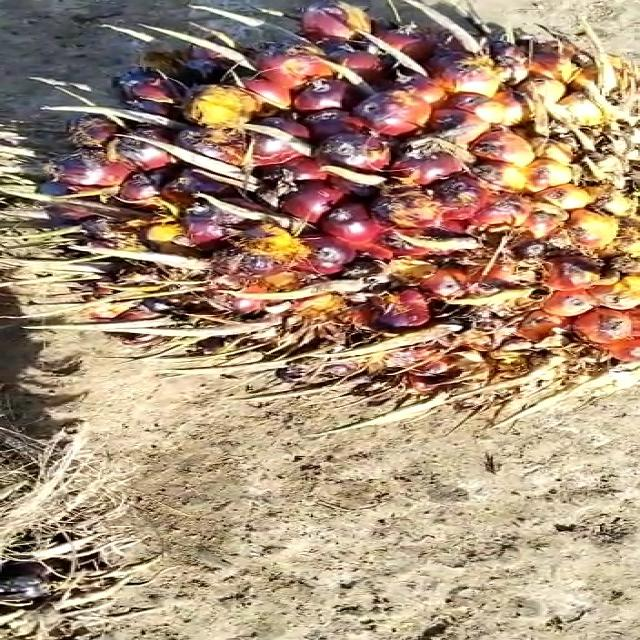palm oil: (19, 11, 640, 403)
